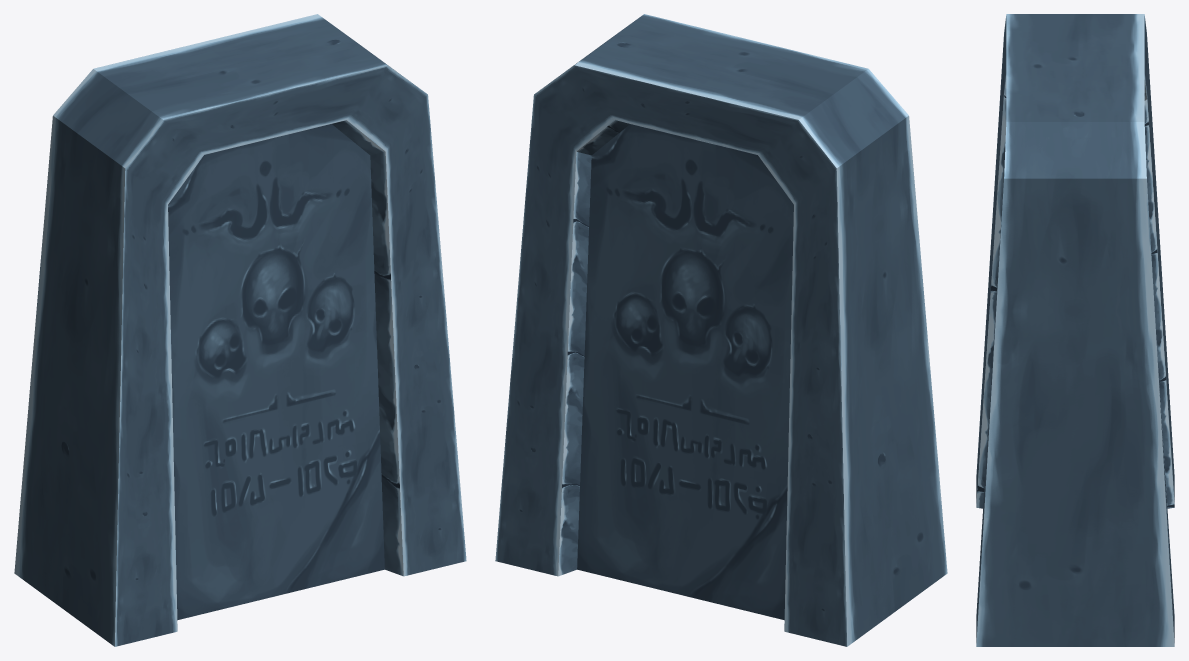
The model's file is SM_PROP_gravestone_v05_04.fbx.
3 renders of one model, left to right at view 1: azimuth 30°, elevation 25°; view 2: azimuth 150°, elevation 25°; view 3: azimuth 270°, elevation 25°, orthographic.
Parts seen in each view (by area): view 1: SM_PROP_gravestone_v05_04; view 2: SM_PROP_gravestone_v05_04; view 3: SM_PROP_gravestone_v05_04.
Boxes of the visible parts, x1,y1,x2,y2 form: SM_PROP_gravestone_v05_04: (14,14,466,646); SM_PROP_gravestone_v05_04: (495,14,947,646); SM_PROP_gravestone_v05_04: (976,14,1174,646).
Size of the model in its own units: 79.76 by 108 by 39.45.
